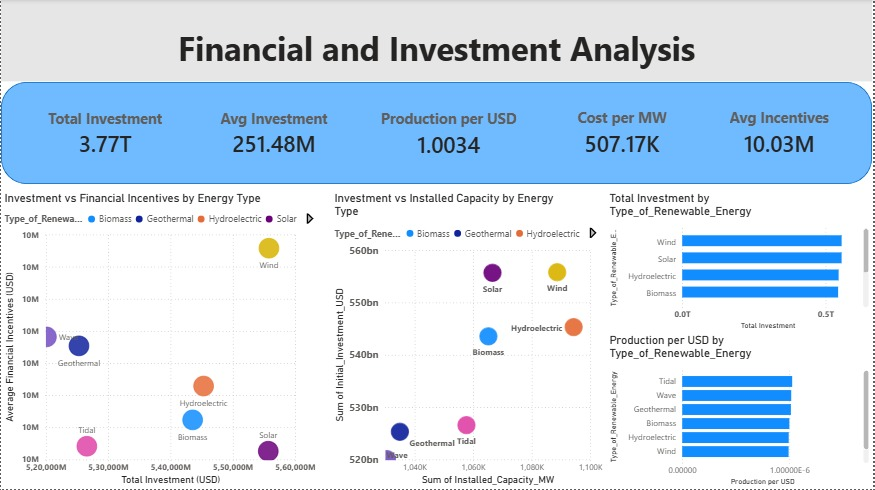

The page's visual inventory and layout, read from the dashboard file:
{"tool":"powerbi","page":{"name":"Page 1","canvas":[1280,720],"ordinal":0},"visuals":[{"type":"shape","box":[0,122,1279.8,149.9],"z":0},{"type":"cardVisual","fields":{"Data":["Renewable energy dataset.Total Investment"]},"box":[23.9,126.5,259.8,140.1],"z":1000},{"type":"cardVisual","fields":{"Data":["Renewable energy dataset.Avg Incentives"]},"box":[1030.5,126.5,227.3,138.4],"z":2000},{"type":"cardVisual","fields":{"Data":["Renewable energy dataset.Cost per MW"]},"box":[794.7,126.5,235.8,138.4],"z":3000},{"type":"cardVisual","fields":{"Data":["Renewable energy dataset.Avg Investment"]},"box":[283.7,126.5,235.8,140.1],"z":4000},{"type":"cardVisual","fields":{"Data":["Renewable energy dataset.Production per USD"]},"box":[519.5,128.2,275.1,138.4],"z":5000},{"type":"clusteredBarChart","fields":{"Category":["Renewable energy dataset.Type_of_Renewable_Energy"],"Y":["Renewable energy dataset.Total Investment"]},"box":[889,282.1,390.9,208.7],"z":6000},{"type":"clusteredBarChart","fields":{"Category":["Renewable energy dataset.Type_of_Renewable_Energy"],"Y":["Renewable energy dataset.Production per USD"]},"box":[888.7,490.5,391.3,229],"z":7000},{"type":"scatterChart","title":"Investment vs Financial Incentives by Energy Type","fields":{"Series":["Renewable energy dataset.Type_of_Renewable_Energy"],"X":["Renewable energy dataset.Total Investment"],"Y":["Renewable energy dataset.Avg Incentives"]},"box":[0,282.1,467.3,437.9],"z":8000},{"type":"scatterChart","title":"Investment vs Installed Capacity by Energy Type","fields":{"X":["Sum(Renewable energy dataset.Installed_Capacity_MW)"],"Y":["Sum(Renewable energy dataset.Initial_Investment_USD)"],"Series":["Renewable energy dataset.Type_of_Renewable_Energy"]},"box":[484.9,282.1,404.1,437.9],"z":9000},{"type":"textbox","box":[0,0,1280,121.3],"z":10000}]}

Visuals, with their boxes in screenshot pixels (x1, y1, x2, y2), scaled from the page's 1280x720 canvas onto the 875x490 screenshot:
shape: select_region(0, 83, 874, 185)
cardVisual - Renewable energy dataset.Total Investment: select_region(16, 86, 194, 181)
cardVisual - Renewable energy dataset.Avg Incentives: select_region(704, 86, 860, 180)
cardVisual - Renewable energy dataset.Cost per MW: select_region(543, 86, 704, 180)
cardVisual - Renewable energy dataset.Avg Investment: select_region(194, 86, 355, 181)
cardVisual - Renewable energy dataset.Production per USD: select_region(355, 87, 543, 181)
clusteredBarChart - Renewable energy dataset.Type_of_Renewable_Energy x Renewable energy dataset.Total Investment: select_region(608, 192, 874, 334)
clusteredBarChart - Renewable energy dataset.Type_of_Renewable_Energy x Renewable energy dataset.Production per USD: select_region(608, 334, 874, 489)
"Investment vs Financial Incentives by Energy Type" scatterChart: select_region(0, 192, 319, 489)
"Investment vs Installed Capacity by Energy Type" scatterChart: select_region(331, 192, 608, 489)
textbox: select_region(0, 0, 874, 83)
